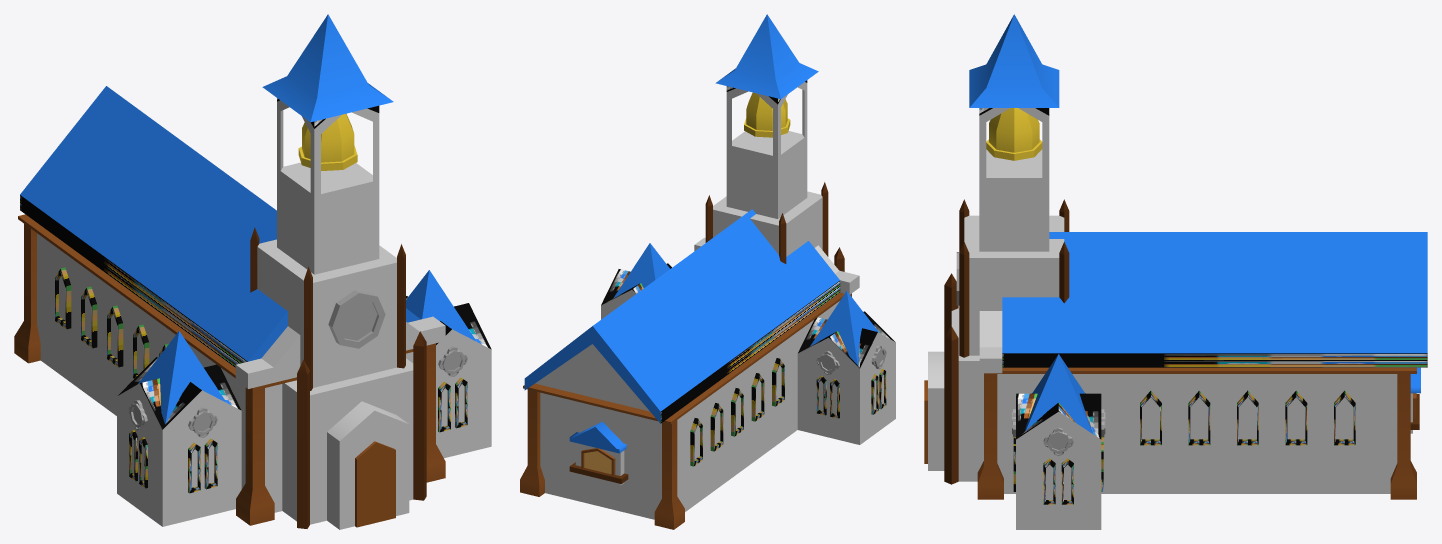
The model's file is Church.fbx.
3 views of the same model, side by side, from view 1: azimuth 30°, elevation 25°; view 2: azimuth 150°, elevation 25°; view 3: azimuth 270°, elevation 25° (orthographic). The views are drawn at different scales.
Visible parts, largest first — view 1: polySurface1202, polySurface1217; view 2: polySurface1202, polySurface1217; view 3: polySurface1202, polySurface1217.
Boxes of the visible parts, bbox=[...] form: polySurface1202: bbox=[14, 14, 491, 529]; polySurface1217: bbox=[298, 113, 357, 170]; polySurface1202: bbox=[520, 14, 895, 529]; polySurface1217: bbox=[744, 92, 790, 137]; polySurface1202: bbox=[924, 14, 1427, 529]; polySurface1217: bbox=[986, 108, 1042, 160].
Bounding box in the file's own units: 5.18 × 6.96 × 7.19.
